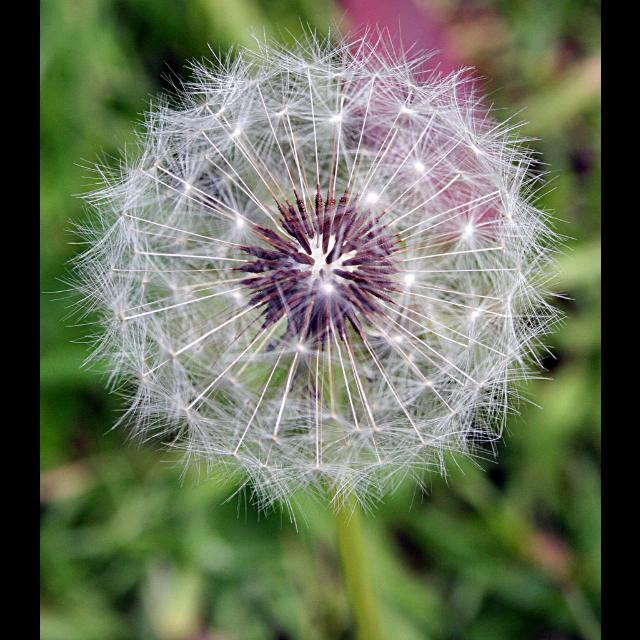Flower: (83, 23, 562, 503)
